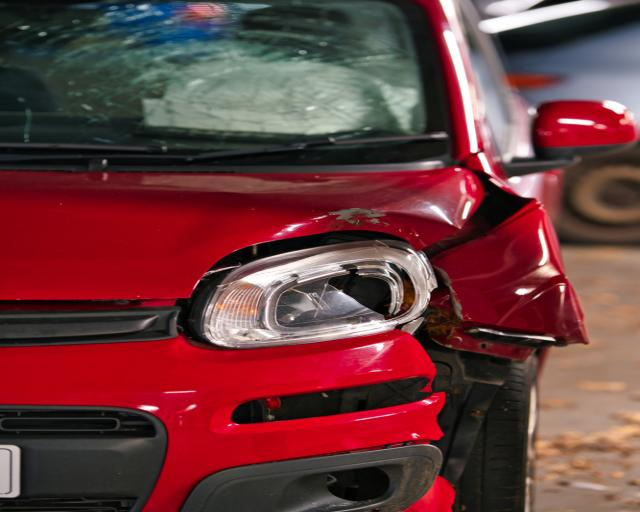dent: (431, 213, 588, 341), (265, 214, 453, 247)
glass shatter: (0, 0, 426, 150)
lamp broken: (202, 243, 444, 347)
